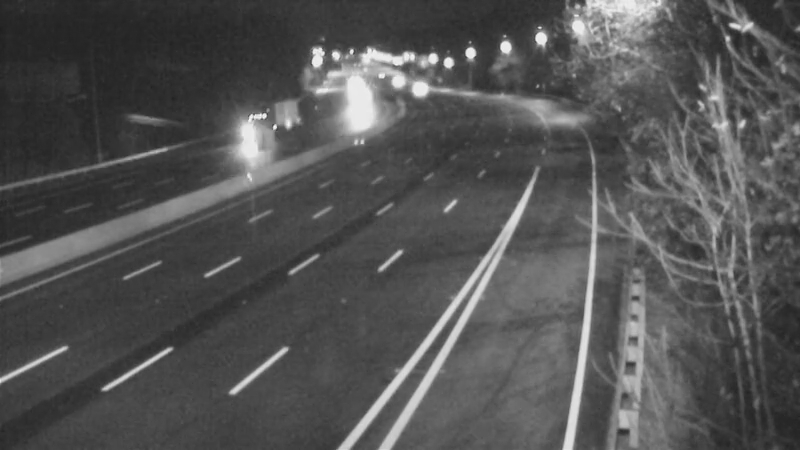vehicle: (391, 62, 441, 112), (370, 55, 420, 105), (231, 93, 281, 143), (332, 80, 382, 130)
